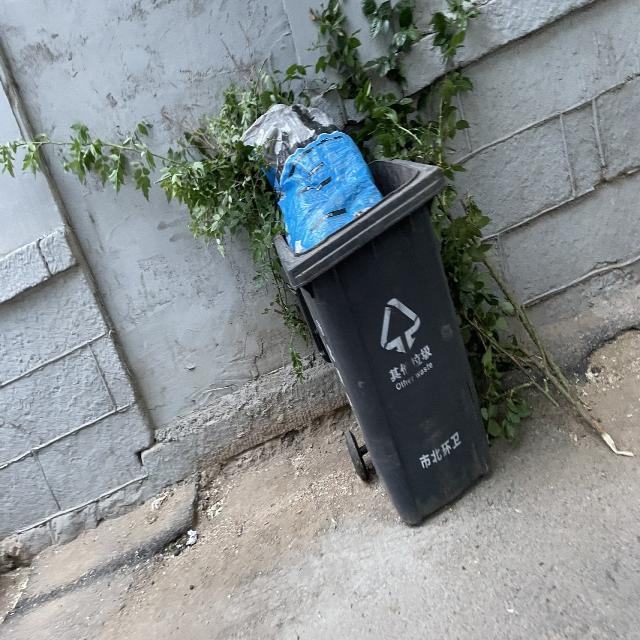overflow: (234, 101, 490, 530)
